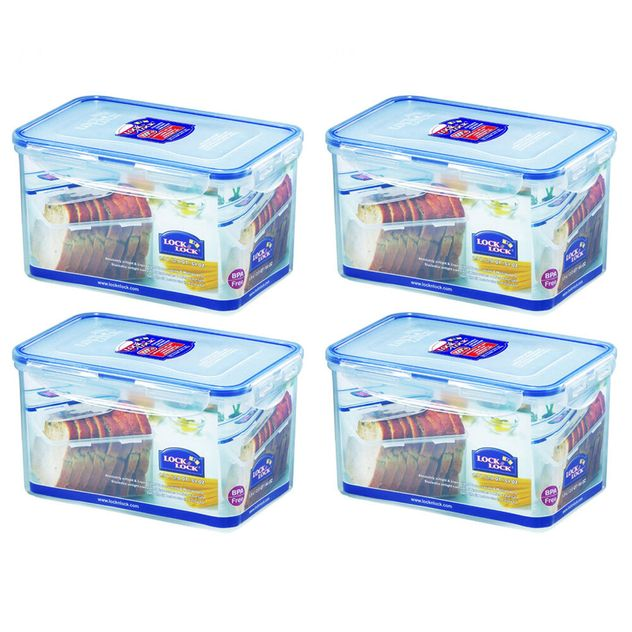PlasticBox: (318, 87, 620, 315)
